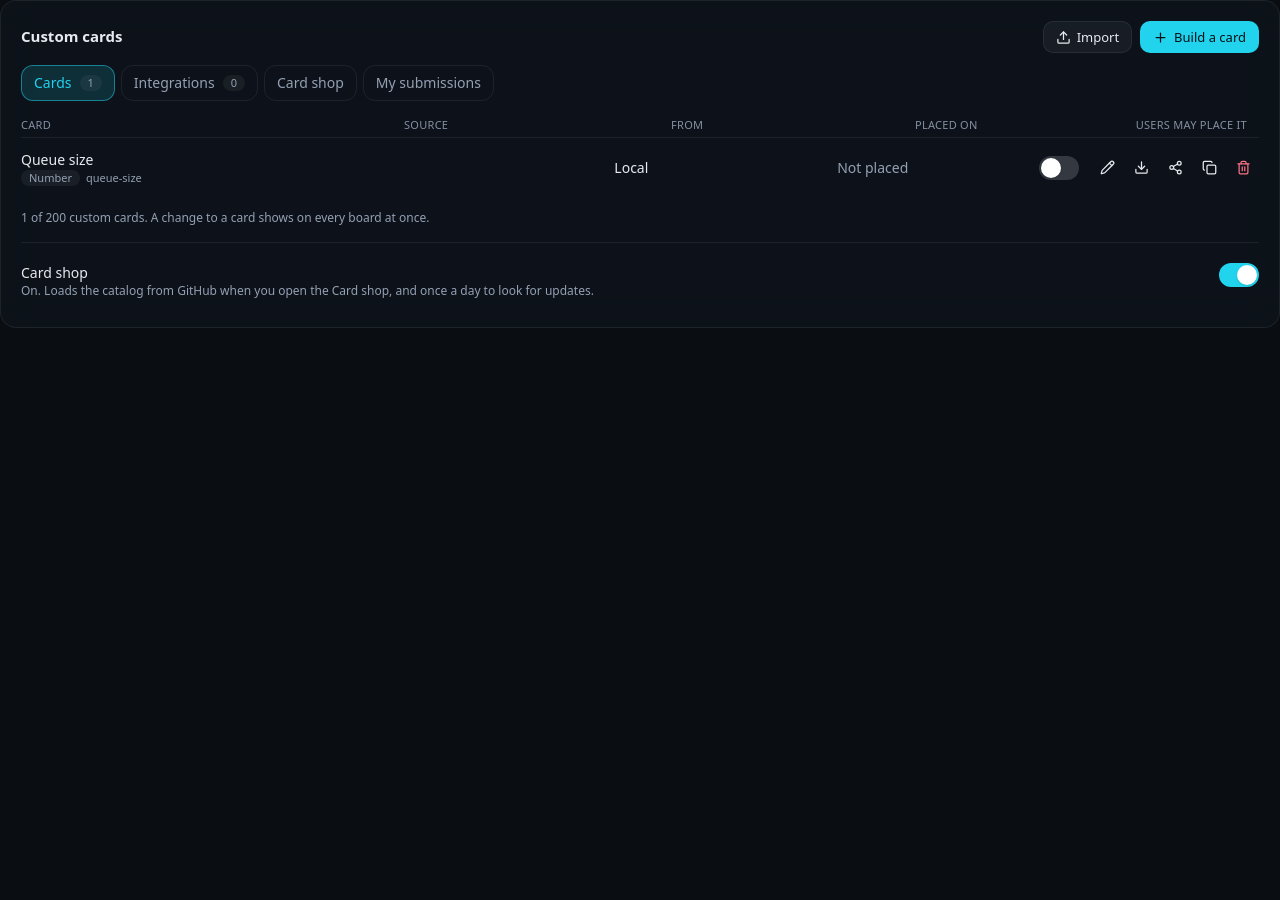
Test: the button and what the dialog asks for › karten16 ec3: a private repository that does not let this account in is said in a sentence
Click the button named "Share Queue size in the Card shop".
click(1175, 168)  # box [1159, 152, 1191, 184]
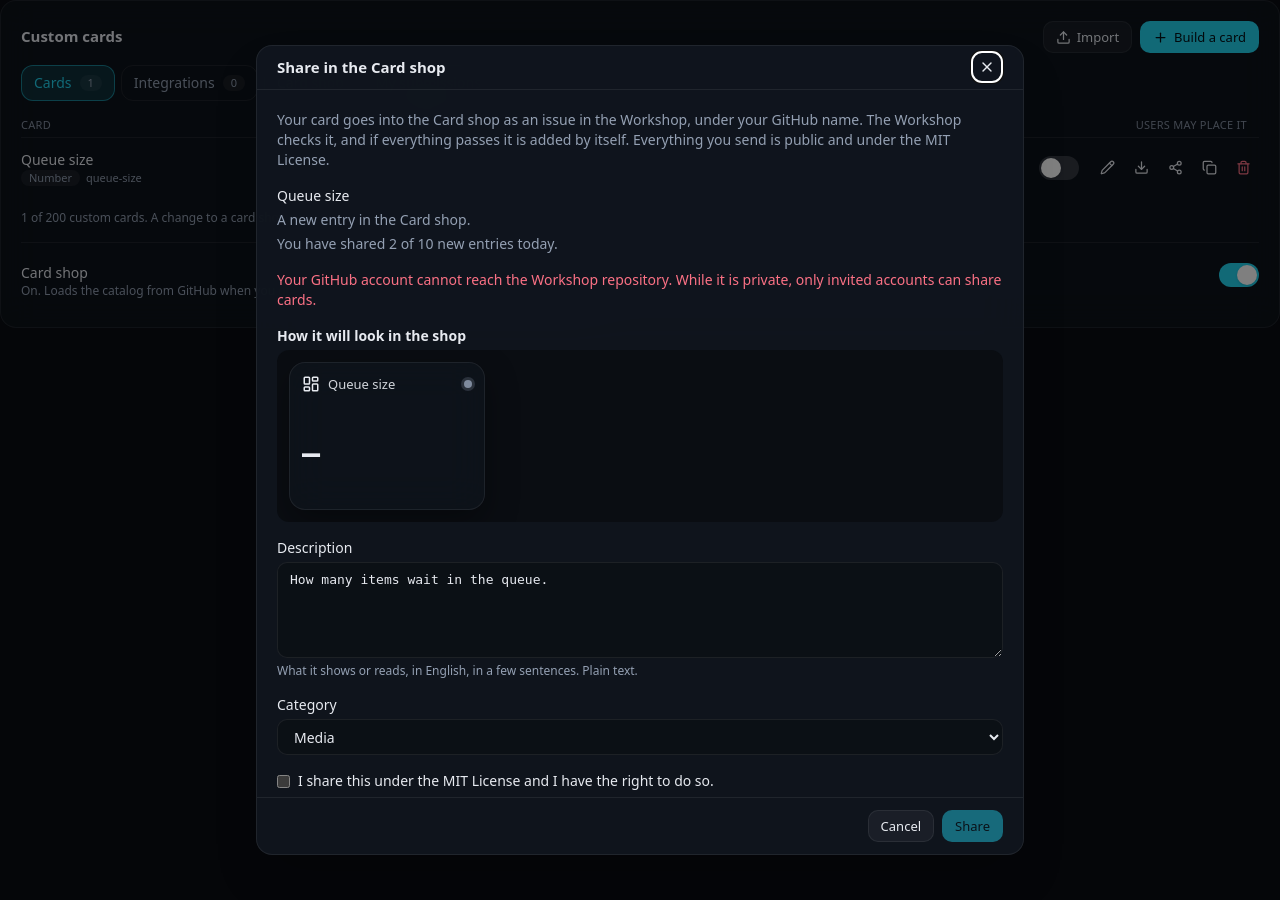
Now the message with test id "share-github-trouble" shows "only invited accounts can share cards", box [277, 270, 1002, 309]
